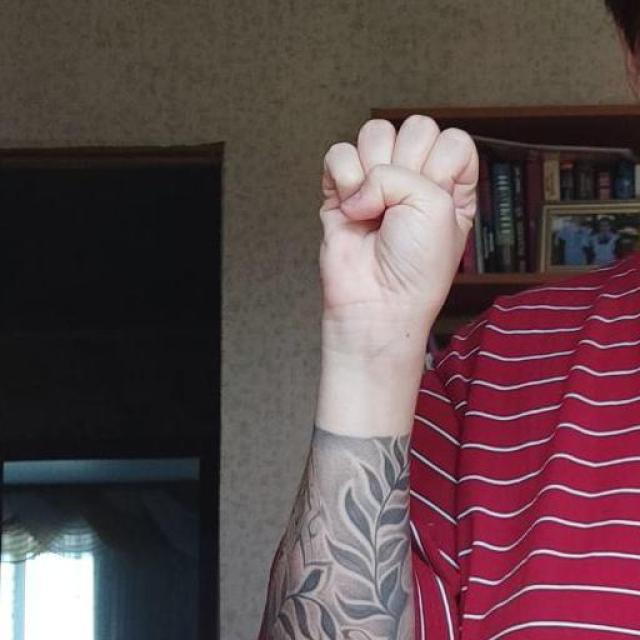hand: (314, 111, 480, 438)
